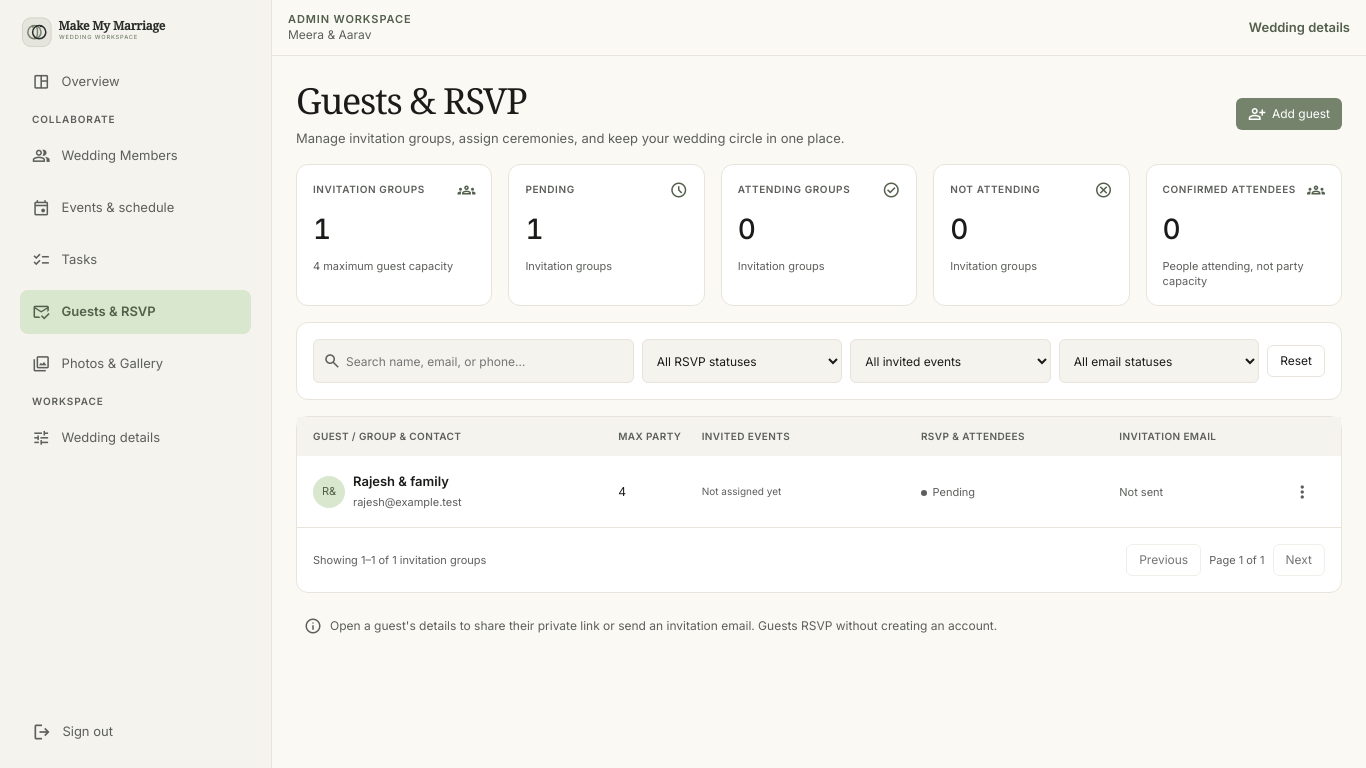
Test: Guest workspace interactions and recovery › dismisses the action menu on outside clicks without blocking the clicked action
Click the heading named "Actions for Rajesh & family" at (1302, 492), box [1292, 480, 1312, 504]
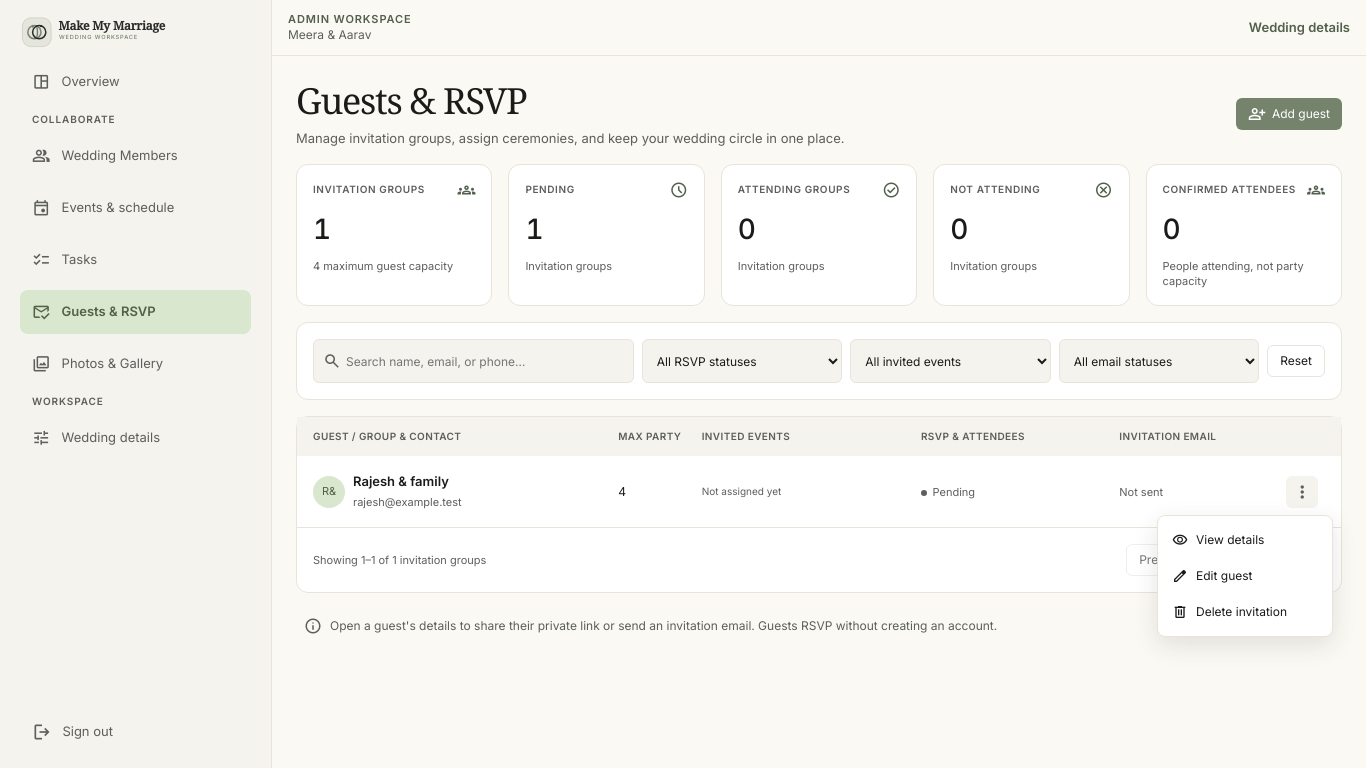
Click the heading "Guests & RSVP" at (411, 100), box [296, 76, 526, 125]
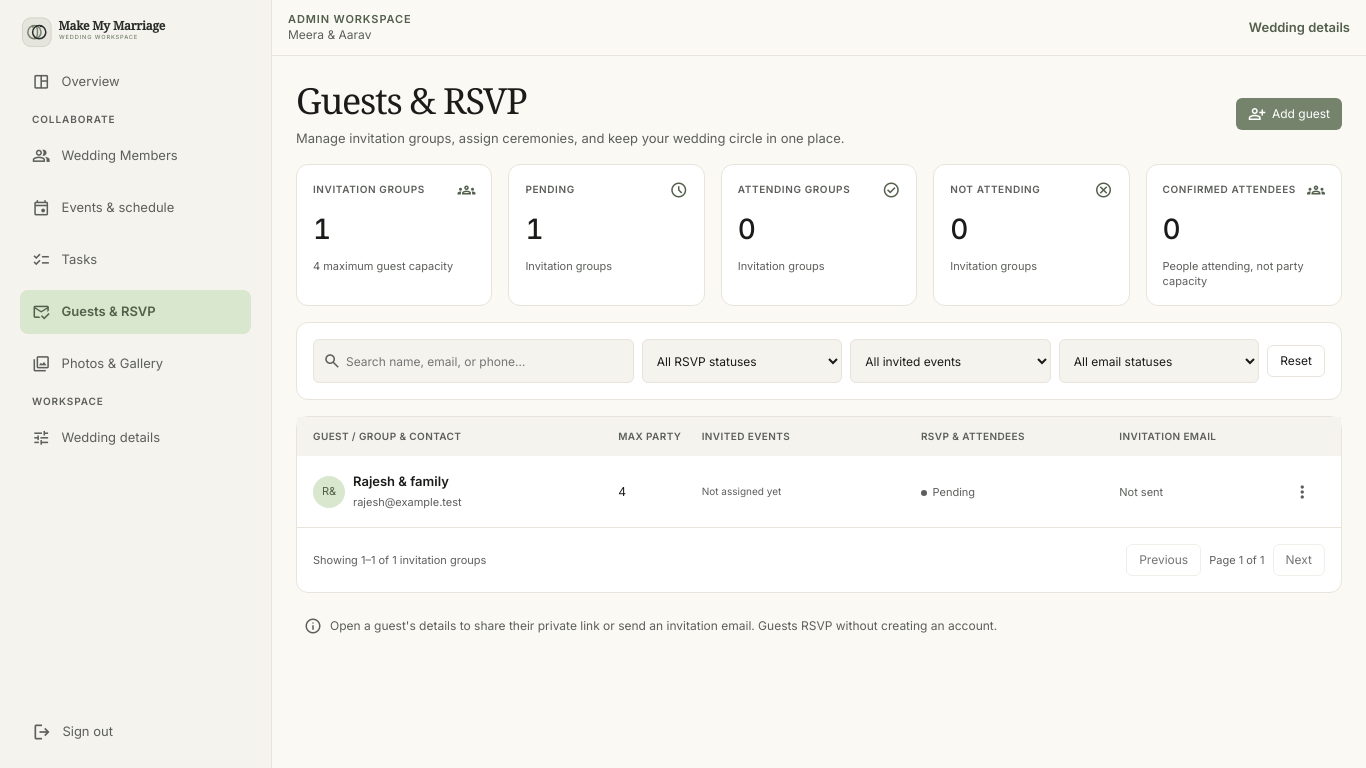
Click the heading named "Actions for Rajesh & family" at (1302, 492), box [1292, 480, 1312, 504]
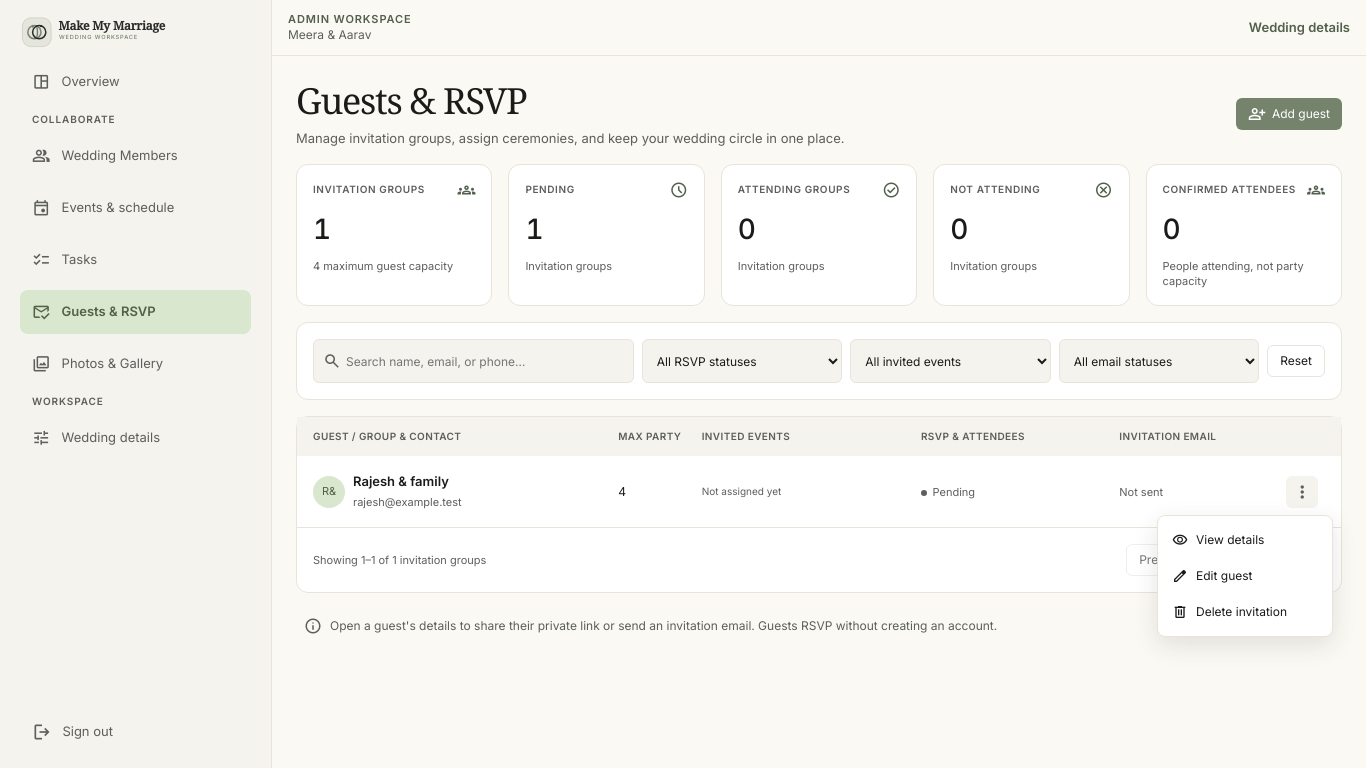
Click the button "Add guest" at (1289, 114), box [1236, 98, 1342, 130]
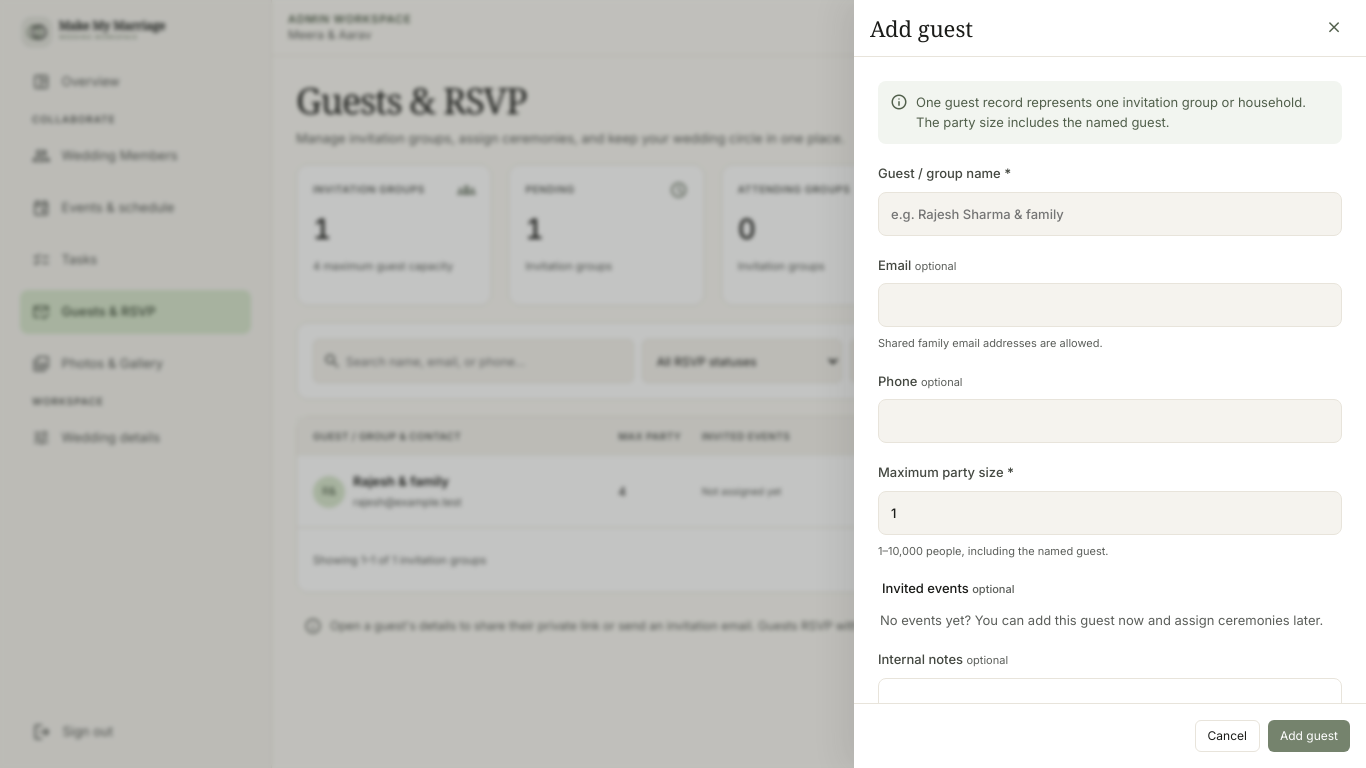
Expected: the dialog is shown, [854, 0, 1365, 767]
